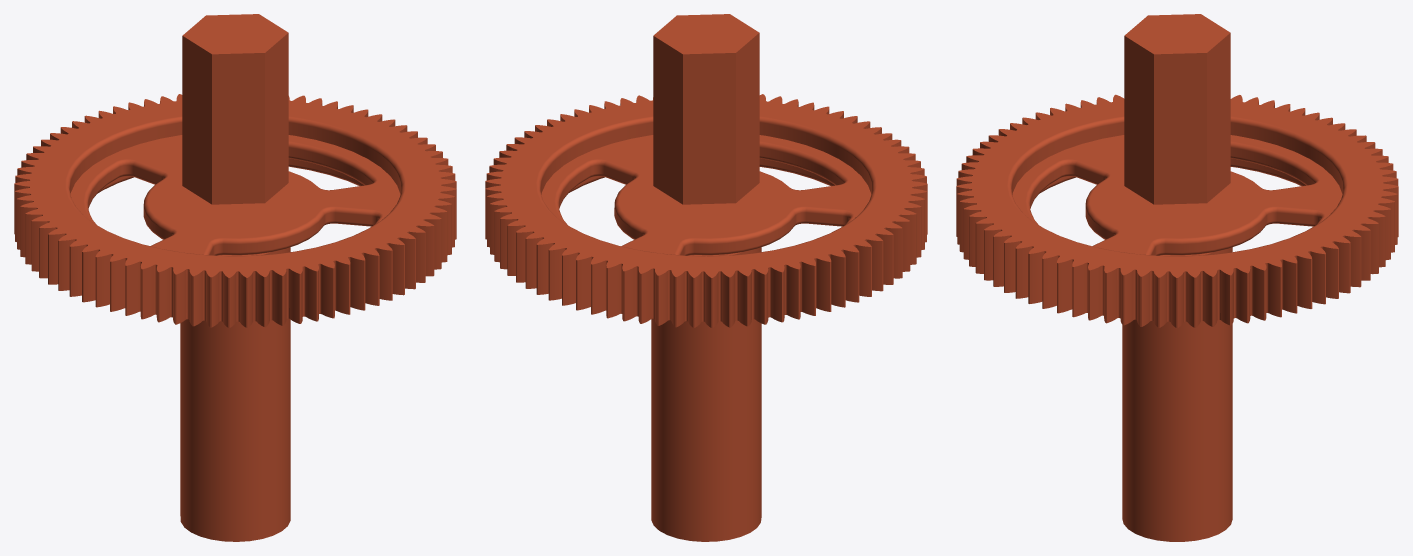
The model's file is Arm Gear.glb.
3 renders of one model, left to right at view 1: azimuth 30°, elevation 25°; view 2: azimuth 150°, elevation 25°; view 3: azimuth 270°, elevation 25°, orthographic.
Visible parts, largest first — view 1: Solid1.015; view 2: Solid1.015; view 3: Solid1.015.
Boxes of the visible parts, x1,y1,x2,y2 form: Solid1.015: [14, 14, 456, 541]; Solid1.015: [485, 14, 927, 541]; Solid1.015: [956, 14, 1398, 541].
Bounding box in the file's own units: 0.024 × 0.029 × 0.024.
